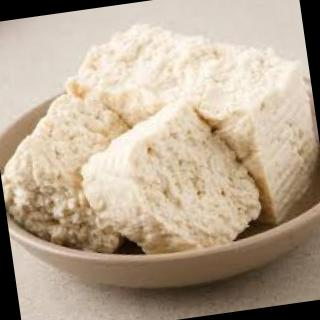Tahu: (1, 3, 320, 271)
